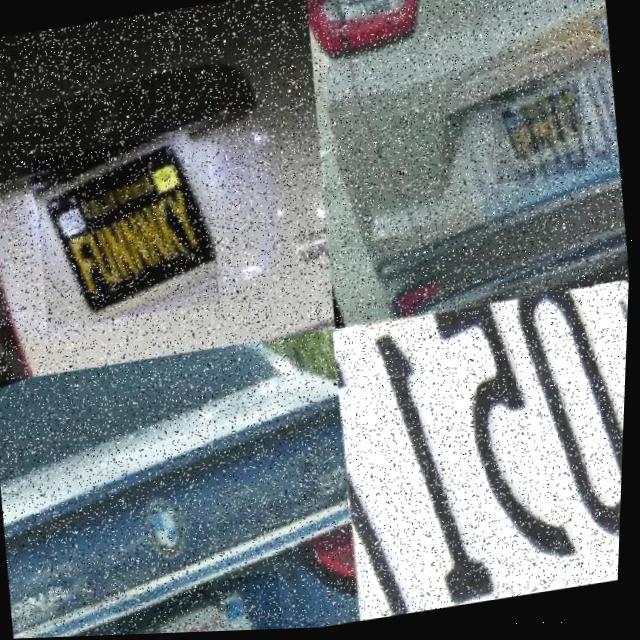LicensePlate: (326, 284, 631, 625), (28, 131, 227, 330), (118, 572, 289, 636), (488, 84, 589, 188)
